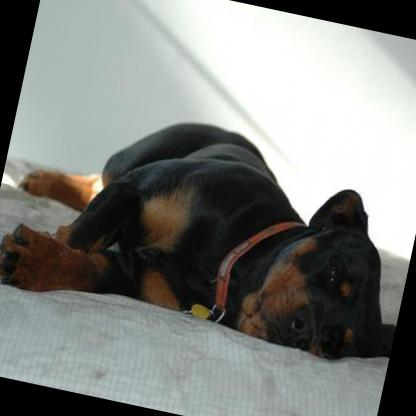Rottweiler: (0, 82, 416, 371)
